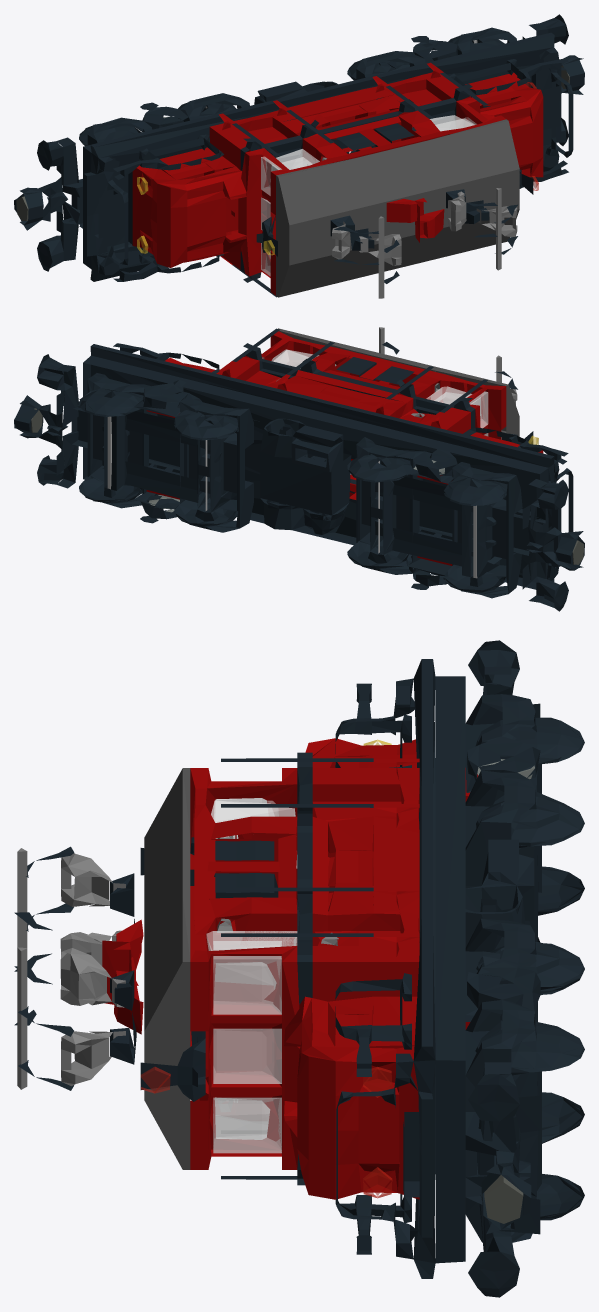
The model's file is german-standard-electric-locomotive-2.glb.
3 renders of one model, top to bottom at view 1: azimuth 30°, elevation 25°; view 2: azimuth 150°, elevation 25°; view 3: azimuth 270°, elevation 25°, orthographic. The views are drawn at different scales.
Size of the model in its own units: 232 by 57.2 by 120.
